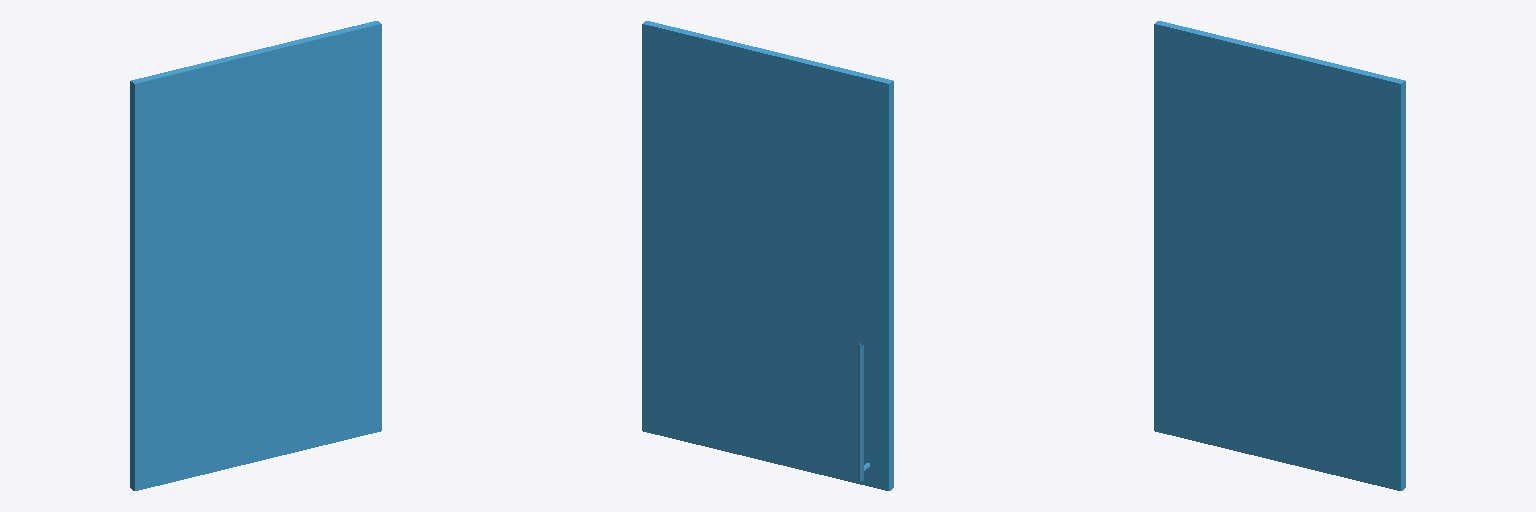
URDF robot description (partnet_553c586e128708ae7649cce35db393a1):
<?xml version="1.0" ?>
<robot name="partnet_553c586e128708ae7649cce35db393a1">
	<link name="base"/>
	<link name="link_4">

		<visual name="base_body-5">
			<origin xyz="0 0 0"/>
			<geometry>
				<mesh filename="textured_objs/original-38.obj"/>
			</geometry>
		</visual>
		<visual name="base_body-5">
			<origin xyz="0 0 0"/>
			<geometry>
				<mesh filename="textured_objs/original-39.obj"/>
			</geometry>
		</visual>
		<visual name="base_body-5">
			<origin xyz="0 0 0"/>
			<geometry>
				<mesh filename="textured_objs/original-40.obj"/>
			</geometry>
		</visual>
		<visual name="base_body-5">
			<origin xyz="0 0 0"/>
			<geometry>
				<mesh filename="textured_objs/original-41.obj"/>
			</geometry>
		</visual>
		<visual name="base_body-5">
			<origin xyz="0 0 0"/>
			<geometry>
				<mesh filename="textured_objs/original-42.obj"/>
			</geometry>
		</visual>

		<collision>
			<origin xyz="0 0 0"/>
			<geometry>
				<mesh filename="textured_objs/original-38-collision.obj"/>
			</geometry>
		</collision>
		<collision>
			<origin xyz="0 0 0"/>
			<geometry>
				<mesh filename="textured_objs/original-39-collision.obj"/>
			</geometry>
		</collision>
		<collision>
			<origin xyz="0 0 0"/>
			<geometry>
				<mesh filename="textured_objs/original-40-collision.obj"/>
			</geometry>
		</collision>
		<collision>
			<origin xyz="0 0 0"/>
			<geometry>
				<mesh filename="textured_objs/original-41.obj"/>
			</geometry>
		</collision>
		<collision>
			<origin xyz="0 0 0"/>
			<geometry>
				<mesh filename="textured_objs/original-42-collision.obj"/>
			</geometry>
		</collision>
	</link>
	<joint name="joint_4" type="fixed">
		<origin rpy="1.570796326794897 0 -3.1415" xyz="0 0 0"/>
		<child link="link_4"/>
		<parent link="base"/>
	</joint>

	<link name="tray_bottom">
		<visual name='tray_b'>
			<origin xyz="0 0 0"/>
			<geometry>
				<mesh filename="textured_objs/original-41.obj"/>
			</geometry>
		</visual>
		<collision>
			<origin xyz="0 0 0"/>
			<geometry>
				<mesh filename="textured_objs/original-41.obj"/>
			</geometry>
		</collision>
	</link>
	<joint name="joint_0" type="fixed">
		<origin xyz="0 0 0"/>
		<child link="tray_bottom"/>
		<parent link="link_4"/>
	</joint>
</robot>

--- What the picture shows (computed from the rendered views, not written in the file) ---
The picture shows the robot from 3 angles, left to right: view 1: azimuth 30°, elevation 25°; view 2: azimuth 150°, elevation 25°; view 3: azimuth 330°, elevation 25°; orthographic projection.
Model partnet_553c586e128708ae7649cce35db393a1 with 3 links and 2 joints (2 fixed), rooted at base, posed all joints at 0.
Visible links, largest first — view 1: link_4; view 2: link_4; view 3: link_4.
Boxes of the visible links, left/top/right/bottom form: link_4: left=130, top=21, right=381, bottom=490; link_4: left=642, top=21, right=893, bottom=490; link_4: left=1154, top=21, right=1405, bottom=490.
Size in the robot's own frame: 0.4878 by 0.0447 by 0.7697 metres.
4 mesh visuals loaded from 5 distinct referenced files (3 OBJ); not drawn: 2 (reference not matched to a file when rendering).
